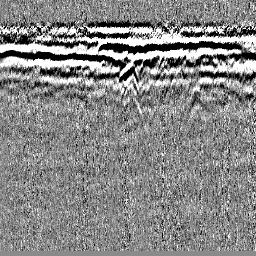cavity: (118, 61, 139, 89)
